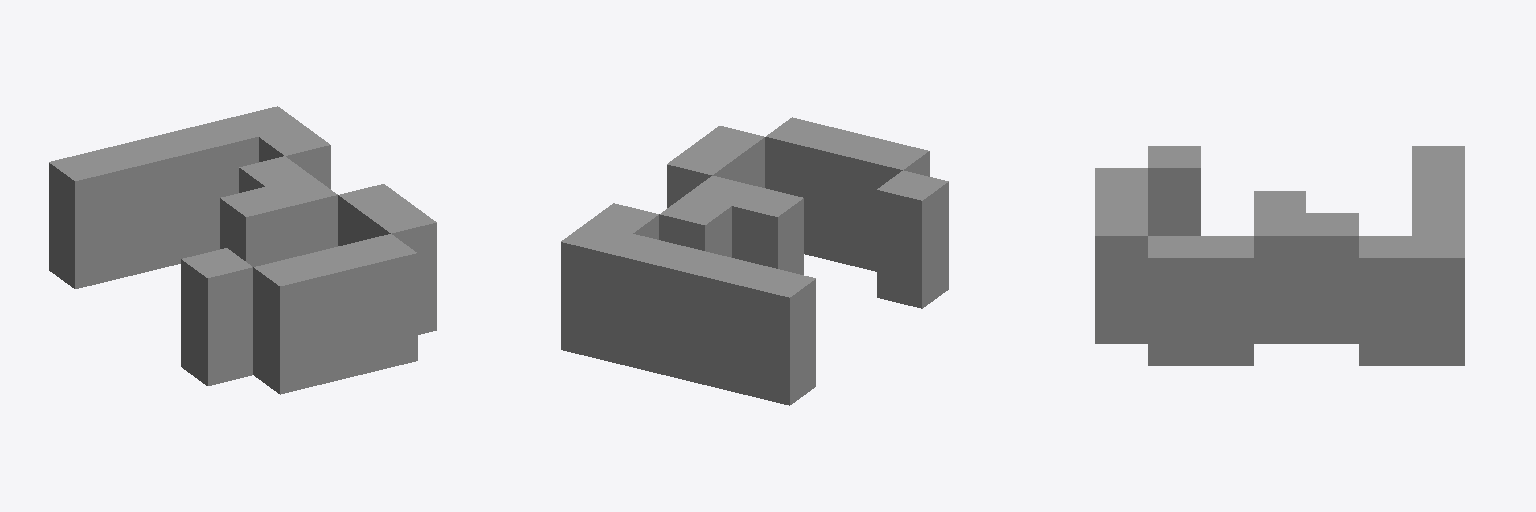
3 renders of one model, left to right at view 1: azimuth 30°, elevation 25°; view 2: azimuth 150°, elevation 25°; view 3: azimuth 270°, elevation 25°, orthographic.
Visible parts, largest first — view 1: 3_CUABC.030; view 2: 3_CUABC.030; view 3: 3_CUABC.030.
Part boxes in pixels (bbox=[...]): 3_CUABC.030: bbox=[49, 106, 436, 394]; 3_CUABC.030: bbox=[561, 117, 948, 405]; 3_CUABC.030: bbox=[1095, 146, 1464, 365].
Size of the model in its own units: 0.5556 by 0.25 by 0.7778.